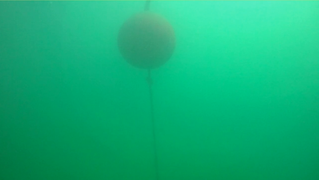buoy: (116, 11, 176, 70)
